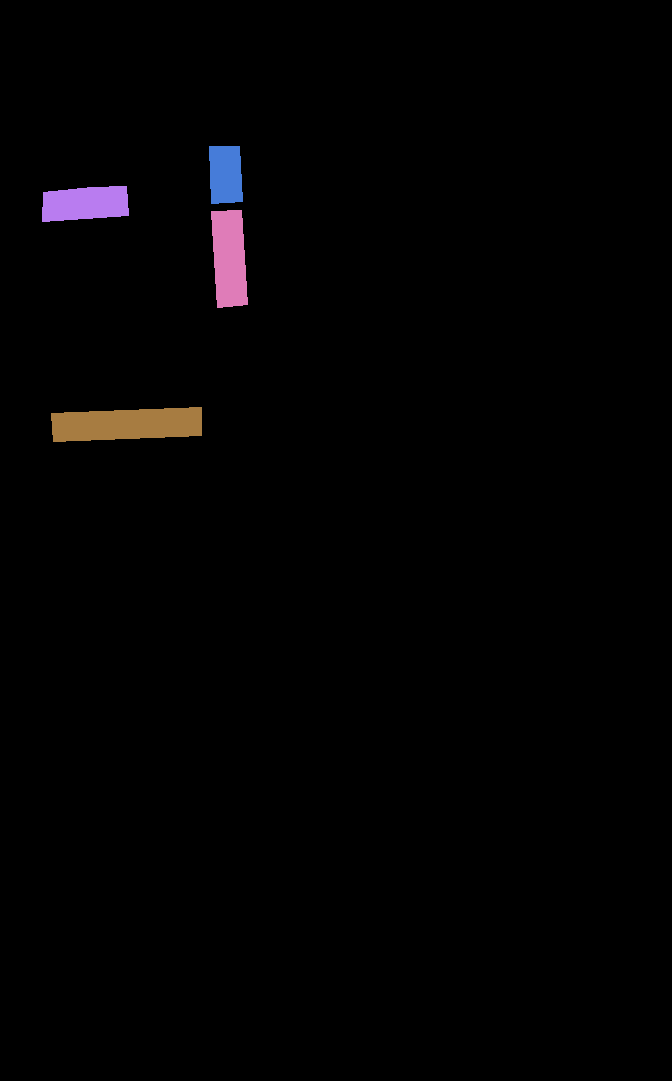parkingspot: (51, 407, 201, 441), (211, 210, 247, 307), (42, 186, 128, 221), (209, 146, 242, 203)
